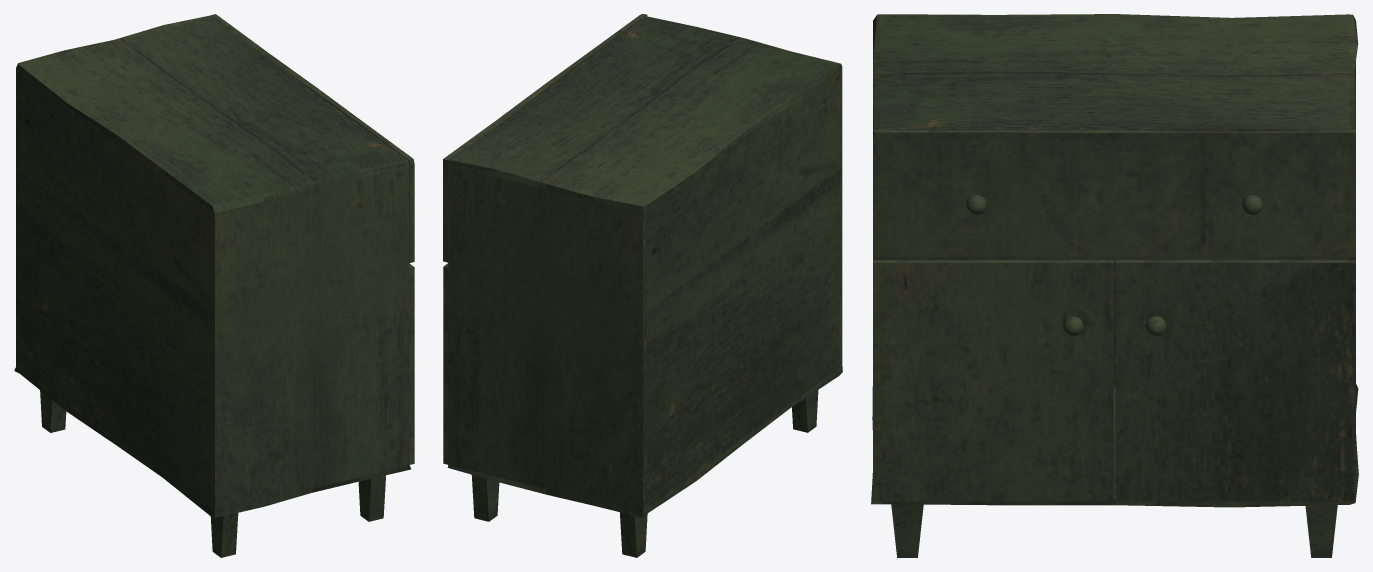
Rendered from Cabinet_01_Complete_SM.fbx.
The picture shows the model from 3 angles, left to right: view 1: azimuth 30°, elevation 25°; view 2: azimuth 150°, elevation 25°; view 3: azimuth 270°, elevation 25°; orthographic projection. The views are drawn at different scales.
Visible parts, largest first — view 1: Cabinet, Drawer, Door_01; view 2: Cabinet, Drawer, Door_02; view 3: Cabinet, Drawer, Door_01, Door_02.
Boxes of the visible parts, x1,y1,x2,y2 form: Cabinet: (14,15,410,557); Drawer: (211,14,414,262); Door_01: (409,264,414,464); Cabinet: (447,16,842,557); Drawer: (443,14,647,262); Door_02: (443,263,448,464); Cabinet: (871,14,1358,557); Drawer: (873,129,1355,256); Door_01: (873,260,1113,501); Door_02: (1115,260,1355,501).
Size of the model in its own units: 44.22 by 70.43 by 70.69.
